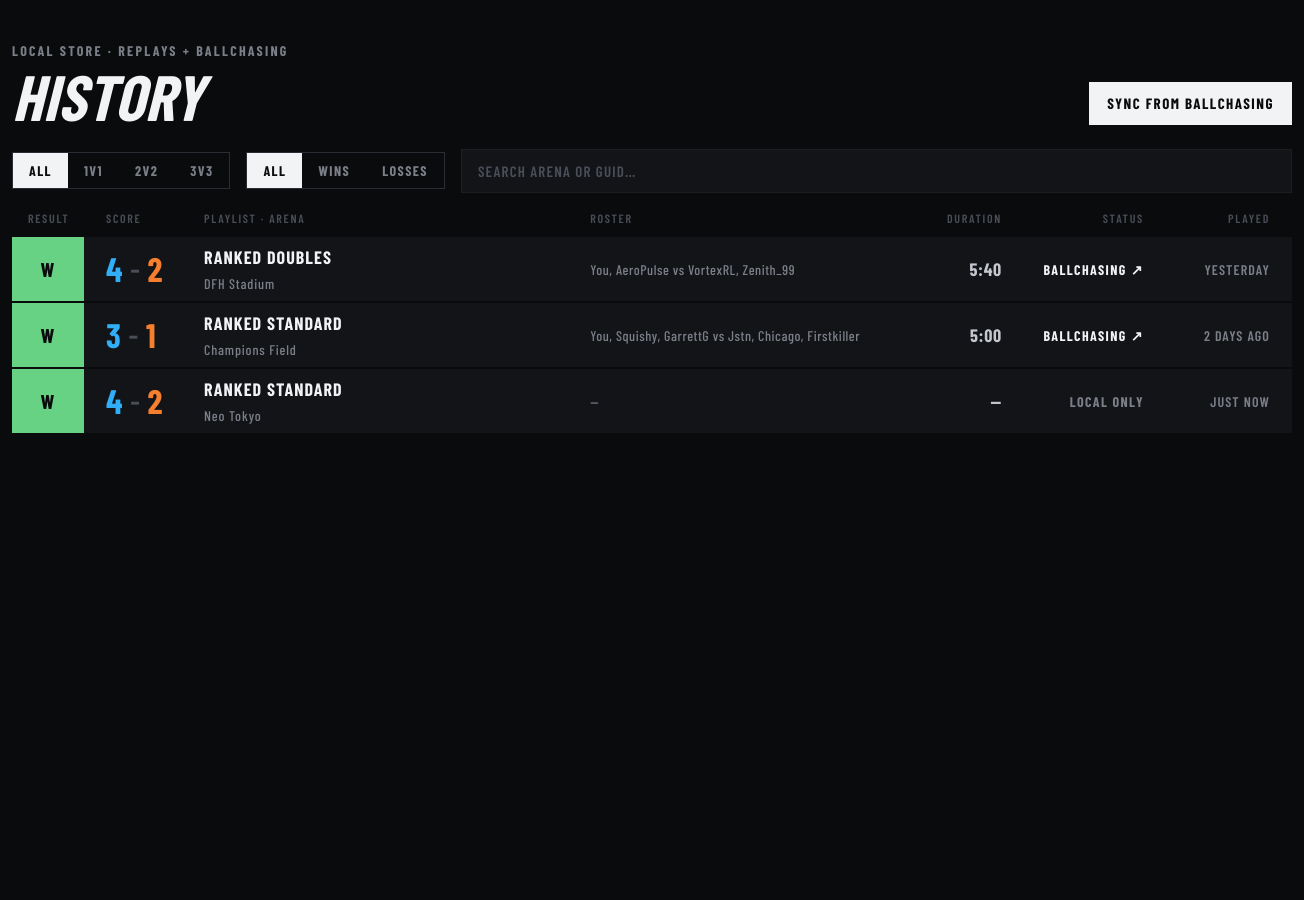
it: HistoryView › expands one row at a time, and only rows with parsed stats
What coordinates should you click on to do the following:
click the button that starts with "RANKED DOUBLES"
I would click on:
 (652, 269)
Its box is left=12, top=237, right=1292, bottom=301.
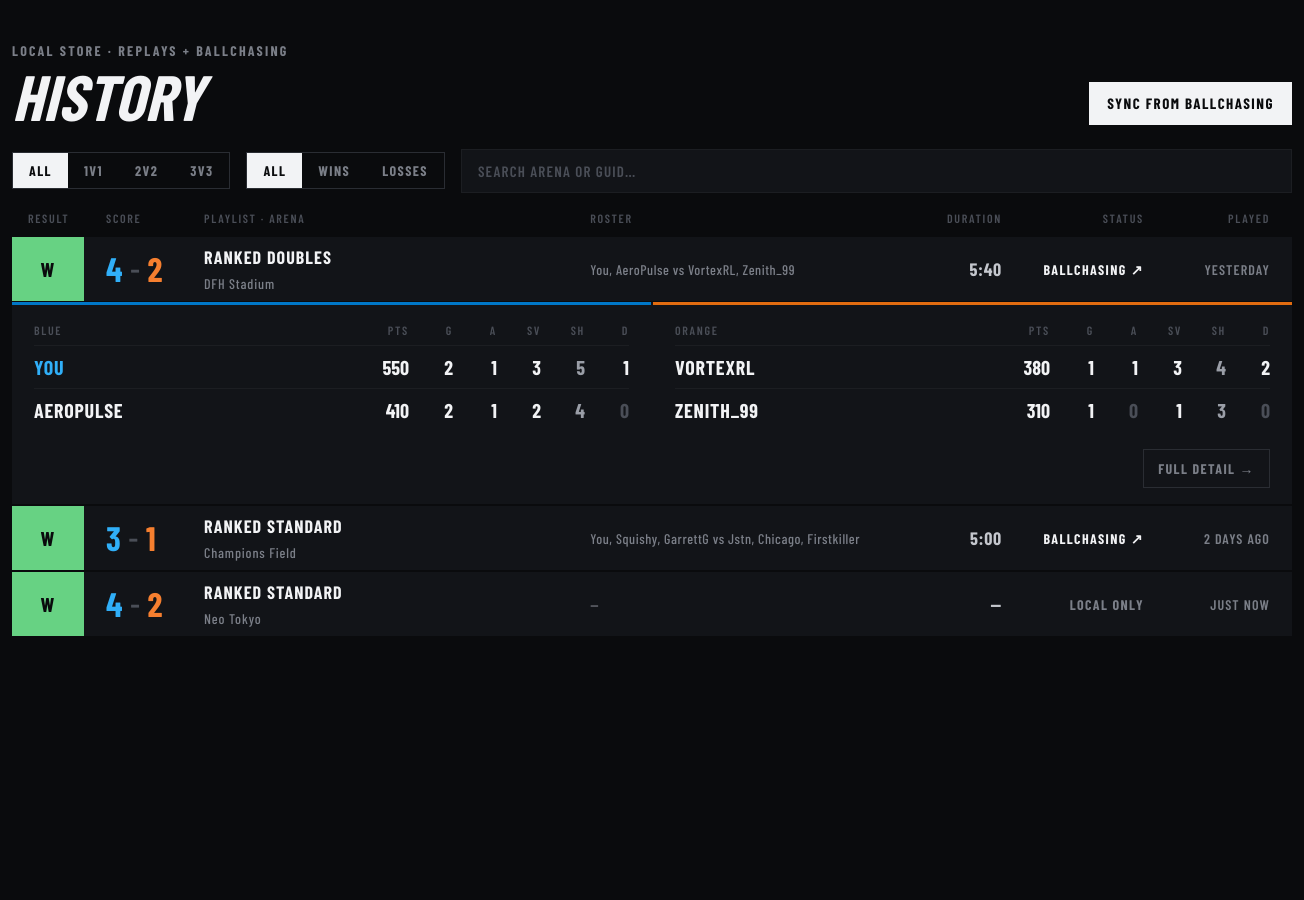
expect the number of elements with test id "history-box-score" is 1: met, box left=12, top=301, right=1292, bottom=504
expect the text "You" is shown: met, box left=34, top=352, right=64, bottom=382
What coordinates should you click on to do the following:
click the button that starts with "RANKED STANDARD"
I would click on:
 (652, 538)
Its box is left=12, top=506, right=1292, bottom=570.
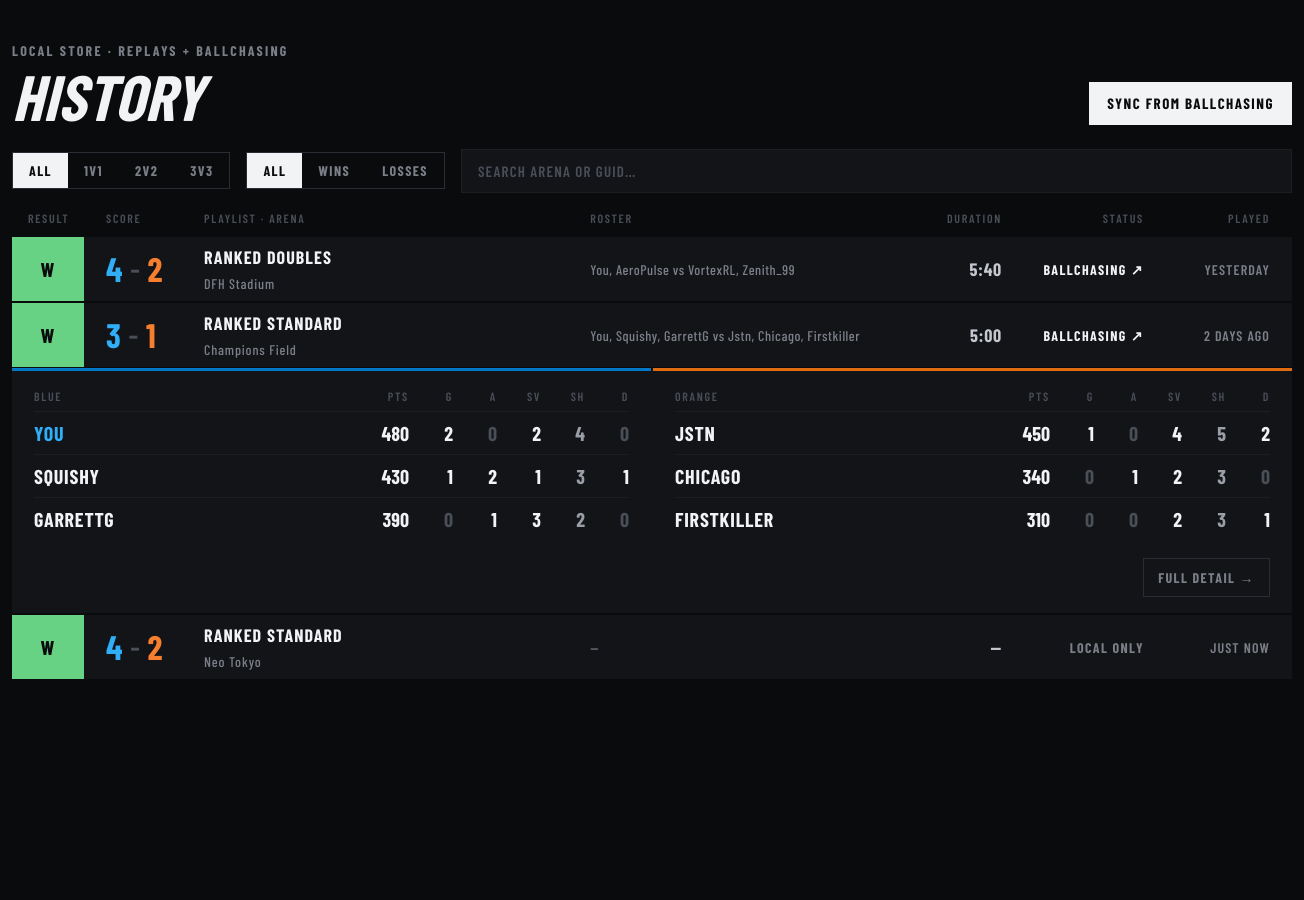
expect the number of elements with test id "history-box-score" is 1: met, box left=12, top=367, right=1292, bottom=613
What coordinates should you click on to do the following:
click the button that starts with "RANKED STANDARD"
I would click on:
 (652, 335)
Its box is left=12, top=303, right=1292, bottom=367.
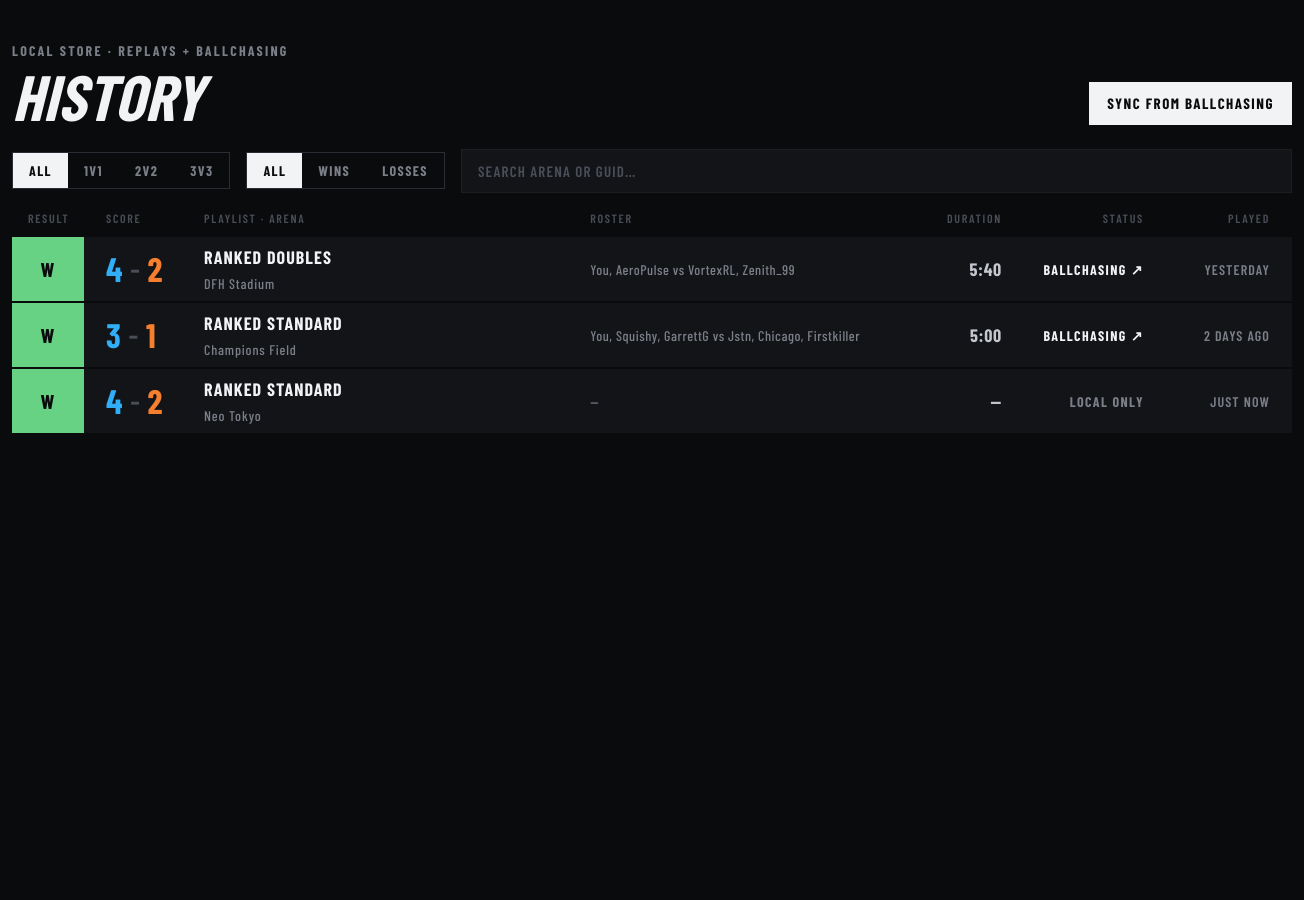
expect no elements with test id "history-box-score" are shown: met
